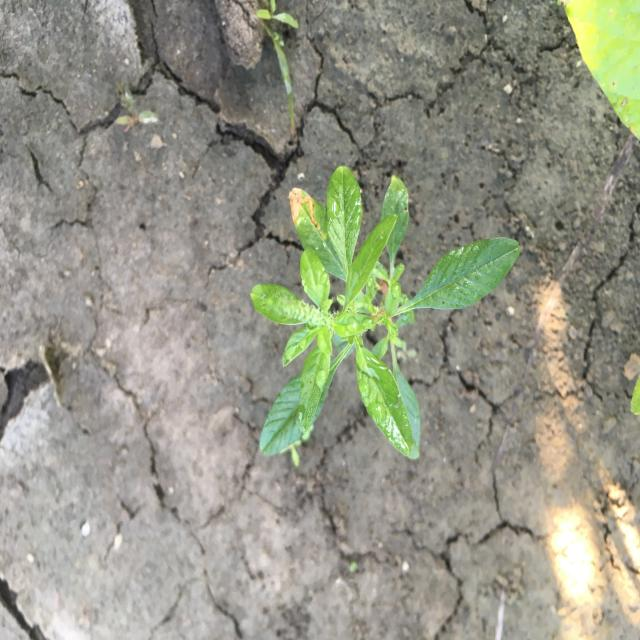Waterhemp: (249, 164, 522, 461)
